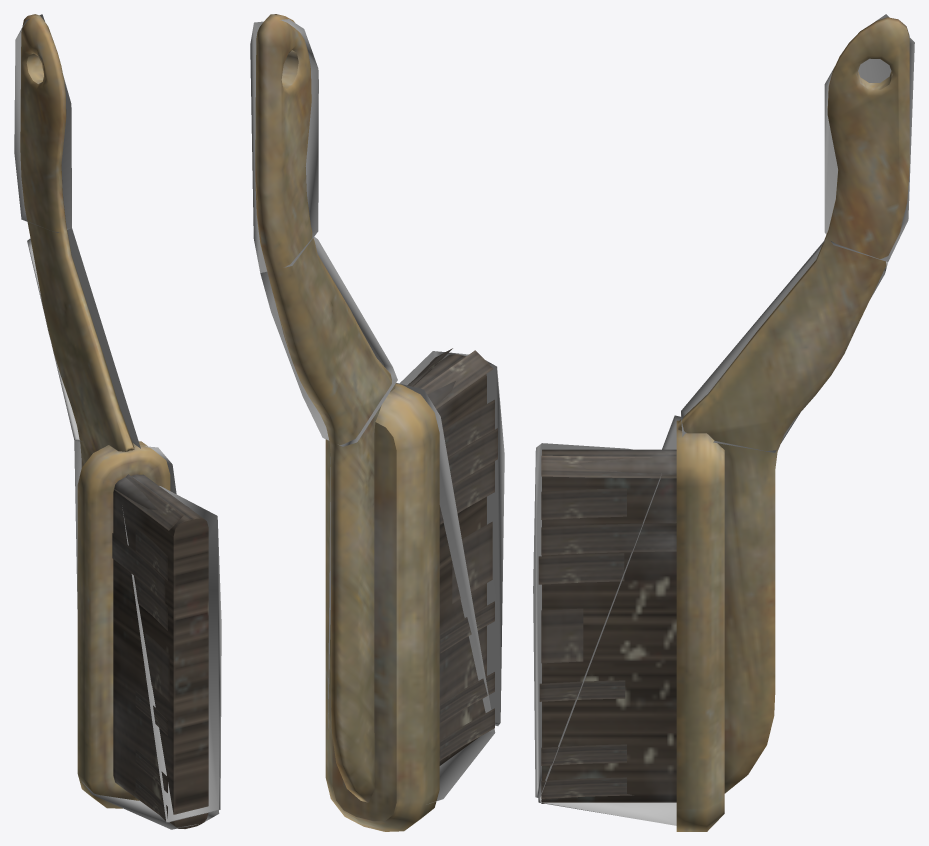
File: SM_Small_Brush.gltf
3 renders of one model, left to right at view 1: azimuth 30°, elevation 25°; view 2: azimuth 150°, elevation 25°; view 3: azimuth 270°, elevation 25°, orthographic. The views are drawn at different scales.
Visible parts, largest first — view 1: SM_Small_Brush_LOD0, SM_Small_Brush_ConvexHulls; view 2: SM_Small_Brush_LOD0, SM_Small_Brush_ConvexHulls; view 3: SM_Small_Brush_LOD0, SM_Small_Brush_ConvexHulls.
Boxes of the visible parts, x1=… form: SM_Small_Brush_LOD0: x1=20, y1=14, x2=208, y2=828; SM_Small_Brush_ConvexHulls: x1=14, y1=14, x2=221, y2=829; SM_Small_Brush_LOD0: x1=255, y1=14, x2=497, y2=831; SM_Small_Brush_ConvexHulls: x1=250, y1=19, x2=504, y2=803; SM_Small_Brush_LOD0: x1=538, y1=17, x2=909, y2=831; SM_Small_Brush_ConvexHulls: x1=533, y1=14, x2=914, y2=825.
Size of what is drawn, in the model's own units: 0.0774 by 0.6483 by 0.2789.
